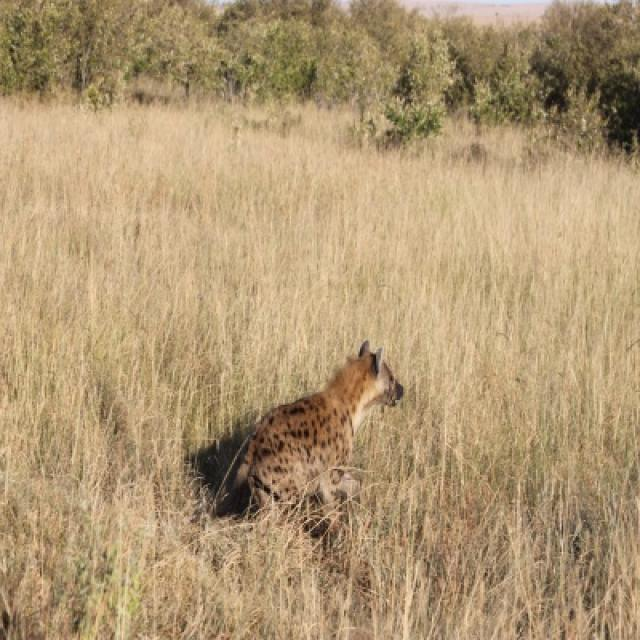hyena: (214, 341, 403, 536)
